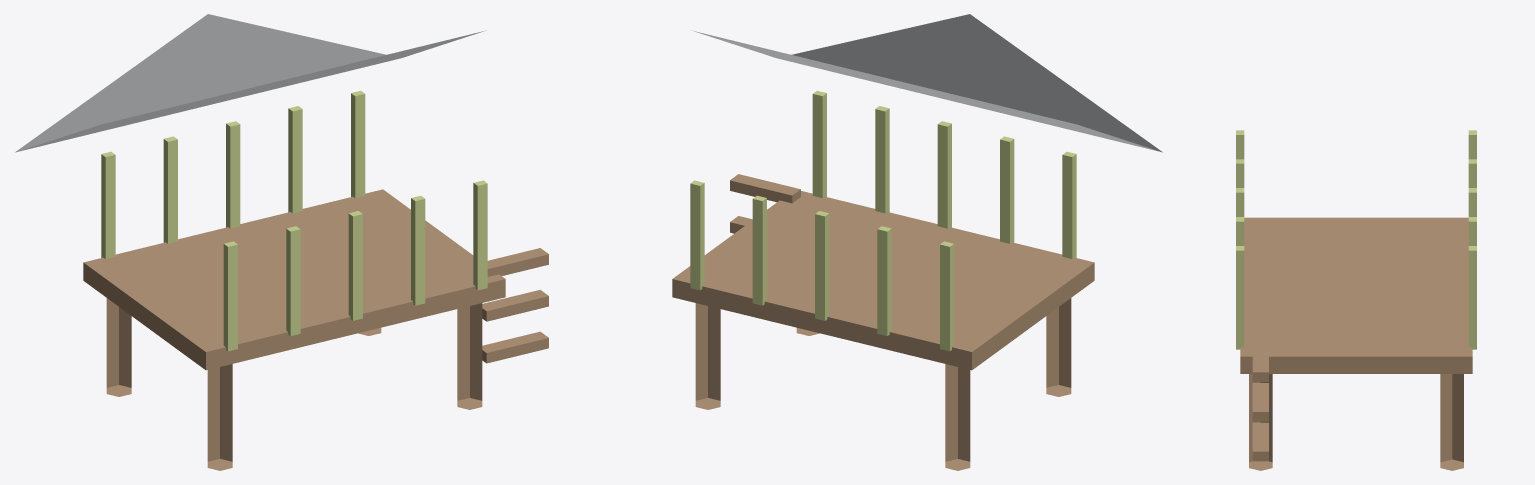
File: kandang_ayam.glb
3 views of the same model, side by side, from view 1: azimuth 30°, elevation 25°; view 2: azimuth 150°, elevation 25°; view 3: azimuth 270°, elevation 25° (orthographic). The views are drawn at different scales.
Visible parts, largest first — view 1: kandang_ayam; view 2: kandang_ayam; view 3: kandang_ayam.
Boxes of the visible parts, left/top/right/bottom form: kandang_ayam: left=15, top=14, right=548, bottom=470; kandang_ayam: left=672, top=14, right=1162, bottom=470; kandang_ayam: left=1236, top=130, right=1476, bottom=470.
Bounding box in the file's own units: 3.15 × 2.45 × 2.4.
